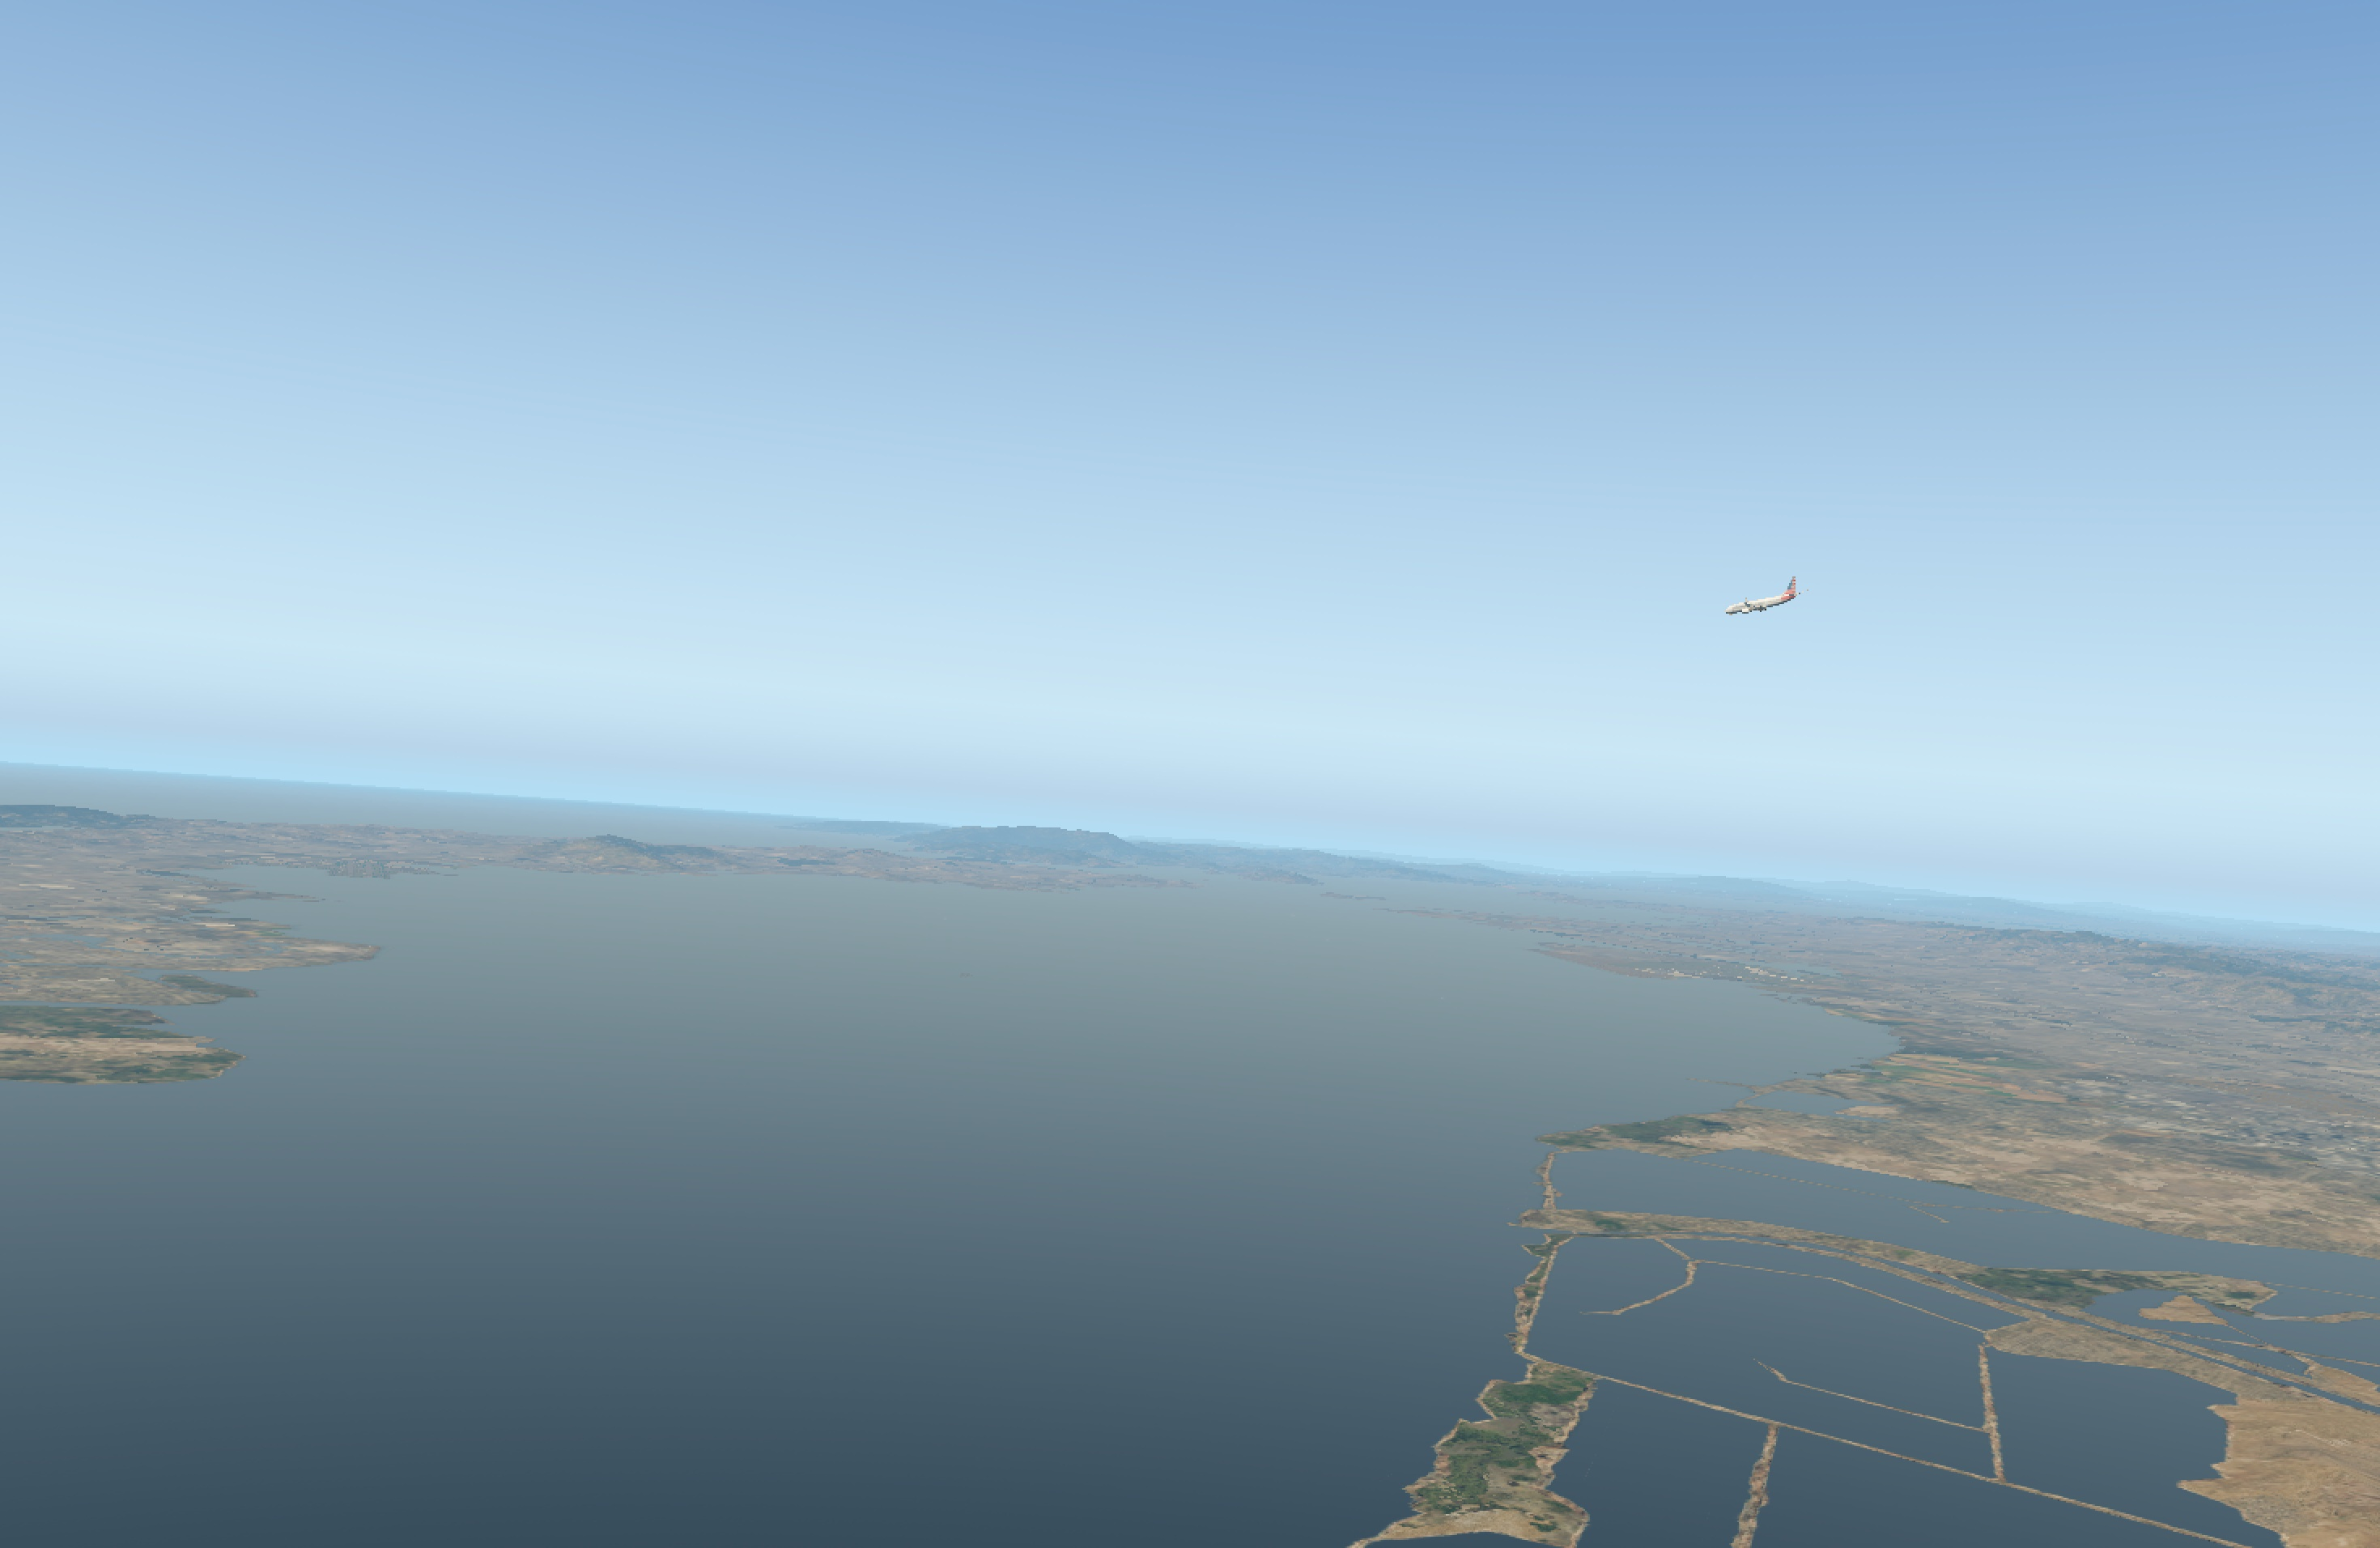aircraft: (1716, 588, 1802, 621)
